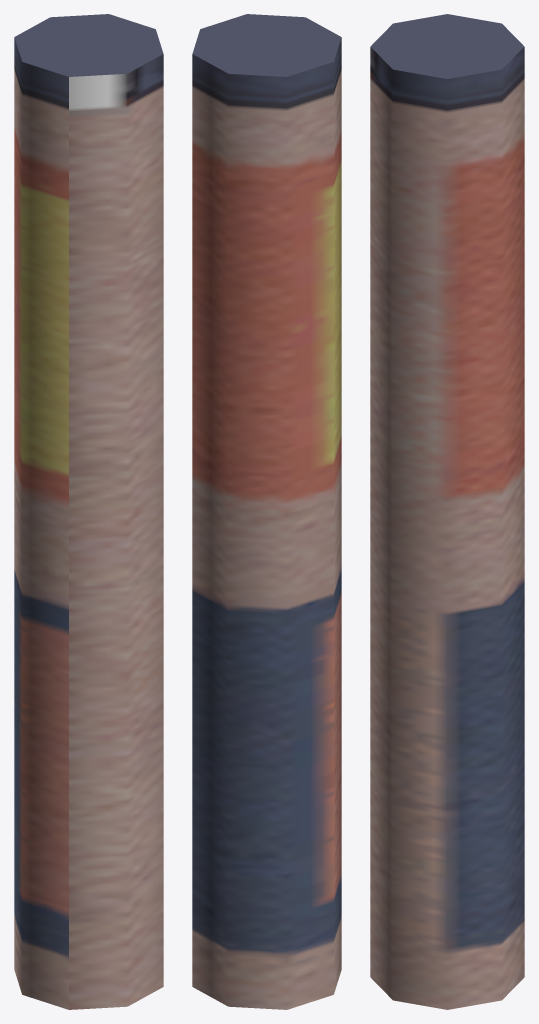
3 renders of one model, left to right at view 1: azimuth 30°, elevation 25°; view 2: azimuth 150°, elevation 25°; view 3: azimuth 270°, elevation 25°, orthographic.
Parts seen in each view (by area): view 1: Joint_0_Object_0; view 2: Joint_0_Object_0; view 3: Joint_0_Object_0.
Part boxes in pixels (bbox=[...]): Joint_0_Object_0: bbox=[14, 14, 163, 1009]; Joint_0_Object_0: bbox=[192, 14, 341, 1009]; Joint_0_Object_0: bbox=[370, 14, 524, 1009].
Bounding box in the file's own units: 60 × 400 × 60.
